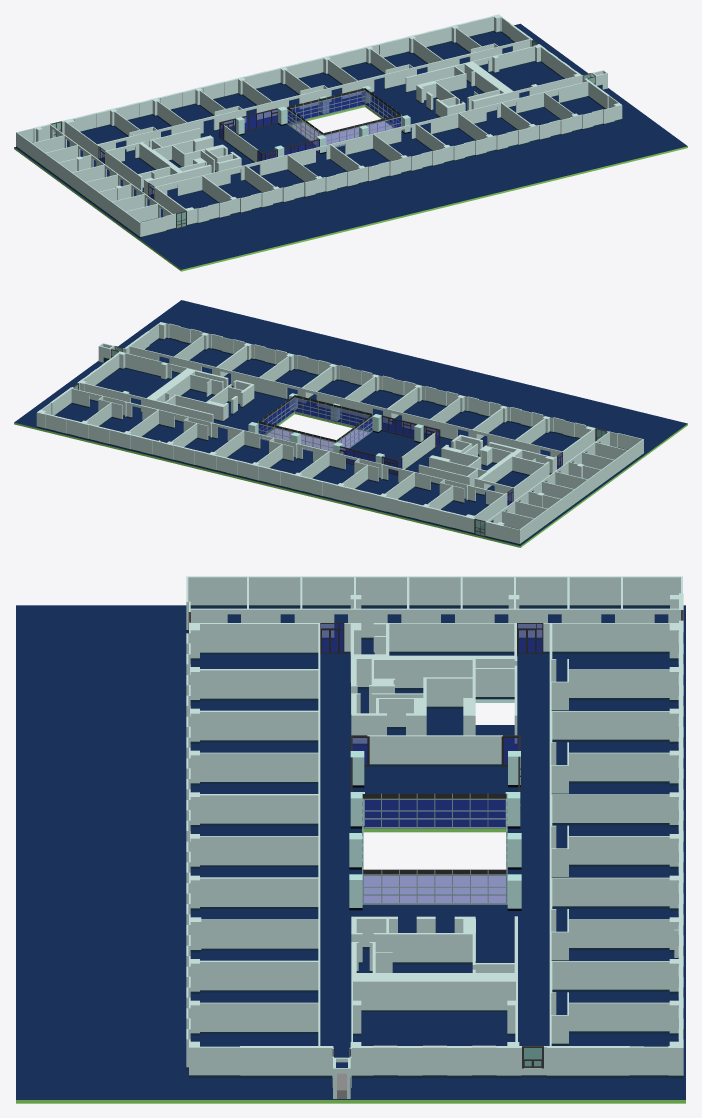
The model's file is 7F_Floor.fbx.
The picture shows the model from 3 angles, top to bottom: view 1: azimuth 30°, elevation 25°; view 2: azimuth 150°, elevation 25°; view 3: azimuth 270°, elevation 25°; orthographic projection. The views are drawn at different scales.
Visible parts, largest first — view 1: 7_Floor, Out_Wall, Room_03, Room_01, Room_02, Center_Glass, 7F_EV_02, 7F_EV_01_Room, 7F_EV_01, 7F_EV_02_Room, Class_Room, Center_Pillar_7F (+5 smaller); view 2: 7_Floor, Out_Wall, Room_01, Room_03, Room_02, Center_Glass, 7F_EV_02, 7F_EV_01_Room, 7F_EV_01, 7F_EV_02_Room, Class_Room, Center_Pillar_7F (+5 smaller); view 3: 7_Floor, Out_Wall, Room_01, Room_03, Center_Glass, 7F_EV_01, Room_02, 7F_EV_02_Room, 7F_EV_02, 7F_EV_01_Room, Room_04, Center_Pillar_7F (+4 smaller).
Boxes of the visible parts, x1,y1,x2,y2 form: 7_Floor: (14, 23, 687, 271); Out_Wall: (16, 14, 622, 238); Room_03: (154, 81, 588, 213); Room_01: (64, 28, 530, 159); Room_02: (32, 125, 172, 222); Center_Glass: (287, 88, 401, 147); 7F_EV_02: (419, 63, 507, 117); 7F_EV_01_Room: (105, 142, 182, 195); 7F_EV_01: (141, 139, 241, 179); 7F_EV_02_Room: (466, 45, 579, 107); Class_Room: (219, 108, 319, 166); Center_Pillar_7F: (236, 86, 410, 157); 7_Floor: (14, 300, 687, 547); Out_Wall: (36, 322, 643, 545); Room_01: (71, 388, 507, 521); Room_03: (129, 335, 595, 466); Room_02: (487, 431, 627, 529); Center_Glass: (258, 395, 372, 452); 7F_EV_02: (152, 369, 254, 419); 7F_EV_01_Room: (477, 449, 556, 502); 7F_EV_01: (441, 434, 518, 494); 7F_EV_02_Room: (80, 352, 193, 412); Class_Room: (339, 415, 440, 475); Center_Pillar_7F: (248, 393, 423, 463); 7_Floor: (16, 605, 685, 1103); Out_Wall: (186, 576, 683, 1078); Room_01: (543, 623, 678, 1045); Room_03: (190, 623, 320, 1045); Center_Glass: (362, 793, 507, 904); 7F_EV_01: (351, 658, 517, 745); Room_02: (190, 577, 678, 639); 7F_EV_02_Room: (351, 975, 517, 1046); 7F_EV_02: (351, 916, 517, 975); 7F_EV_01_Room: (344, 623, 517, 684); Room_04: (367, 735, 502, 766); Center_Pillar_7F: (349, 751, 521, 910).
Bounding box in the file's own units: 87.32 × 3.17 × 50.
